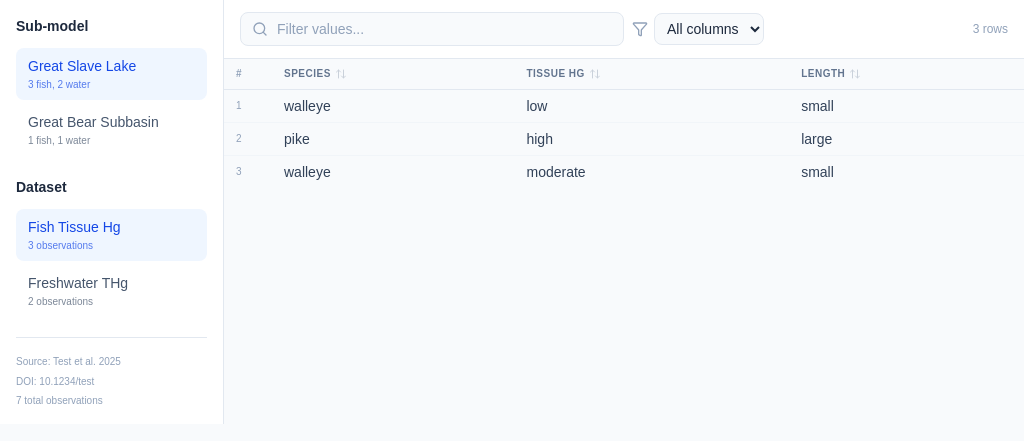
Test: BenchmarkDataViewer › switches to GBS model
Click the text "Great Bear Subbasin": (93, 122) [28,114,159,130]
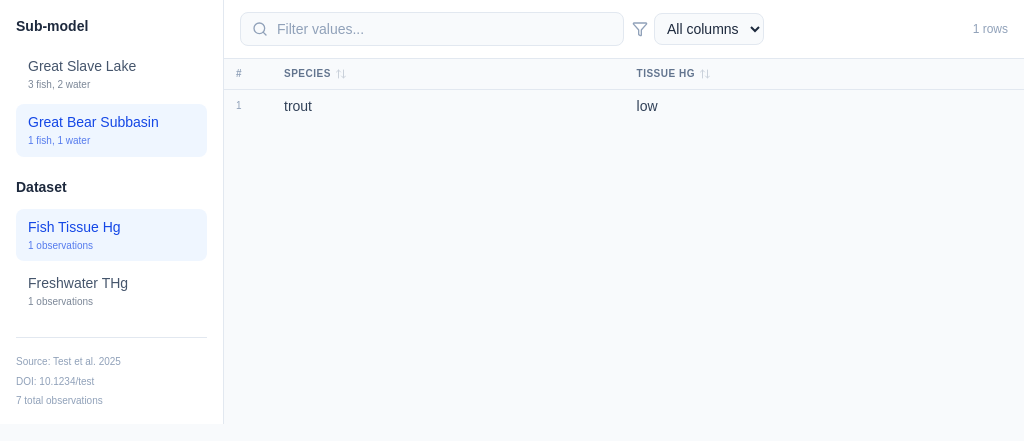
Now the text "1 rows" is shown, box [973,21,1008,37]
